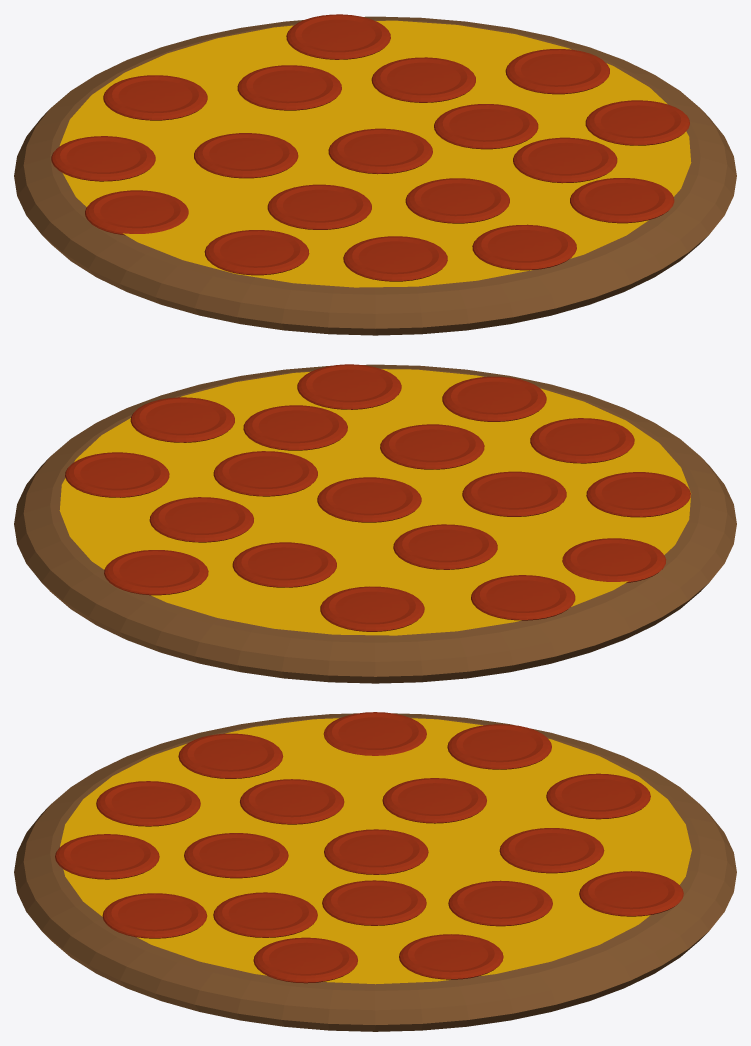
Rendered from Pizza.fbx.
3 renders of one model, top to bottom at view 1: azimuth 30°, elevation 25°; view 2: azimuth 150°, elevation 25°; view 3: azimuth 270°, elevation 25°, orthographic.
Parts seen in each view (by area): view 1: Cheese, Pizza, Pepporoni.002, Pepporoni.008, Pepporoni.009, Pepporoni.016, Pepporoni.001, Pepporoni.011, Pepporoni.004, Pepporoni, Pepporoni.003, Pepporoni.012 (+8 smaller); view 2: Cheese, Pizza, Pepporoni.007, Pepporoni.010, Pepporoni.011, Pepporoni.016, Pepporoni.002, Pepporoni.004, Pepporoni.005, Pepporoni.006, Pepporoni.015, Pepporoni.008 (+8 smaller); view 3: Cheese, Pizza, Pepporoni.014, Pepporoni.012, Pepporoni.008, Pepporoni, Pepporoni.004, Pepporoni.006, Pepporoni.010, Pepporoni.015, Pepporoni.005, Pepporoni.016 (+8 smaller).
Boxes of the visible parts, x1,y1,x2,y2 form: Cheese: (59, 20, 691, 287); Pizza: (14, 16, 736, 335); Pepporoni.002: (237, 65, 341, 110); Pepporoni.008: (51, 136, 155, 181); Pepporoni.009: (585, 100, 689, 145); Pepporoni.016: (343, 236, 447, 281); Pepporoni.001: (103, 75, 207, 120); Pepporoni.011: (405, 178, 509, 223); Pepporoni.004: (505, 49, 609, 94); Pepporoni: (286, 14, 390, 59); Pepporoni.003: (371, 57, 475, 102); Pepporoni.012: (267, 184, 371, 229); Cheese: (59, 369, 691, 635); Pizza: (14, 364, 736, 683); Pepporoni.007: (393, 524, 497, 569); Pepporoni.010: (243, 405, 347, 450); Pepporoni.011: (380, 424, 484, 469); Pepporoni.016: (530, 418, 634, 463); Pepporoni.002: (232, 542, 336, 587); Pepporoni.004: (65, 452, 169, 497); Pepporoni.005: (213, 451, 317, 496); Pepporoni.006: (317, 477, 421, 522); Pepporoni.015: (442, 376, 546, 421); Pepporoni.008: (471, 575, 575, 620); Cheese: (60, 718, 691, 984); Pizza: (14, 713, 736, 1031); Pepporoni.014: (102, 893, 207, 938); Pepporoni.012: (240, 779, 344, 824); Pepporoni.008: (447, 724, 551, 769); Pepporoni: (579, 871, 683, 916); Pepporoni.004: (399, 934, 503, 979); Pepporoni.006: (324, 829, 428, 874); Pepporoni.010: (213, 892, 317, 937); Pepporoni.015: (55, 834, 159, 879); Pepporoni.005: (322, 880, 426, 925); Pepporoni.016: (96, 781, 200, 826).
Bounding box in the file's own units: 250 × 18.21 × 250.
